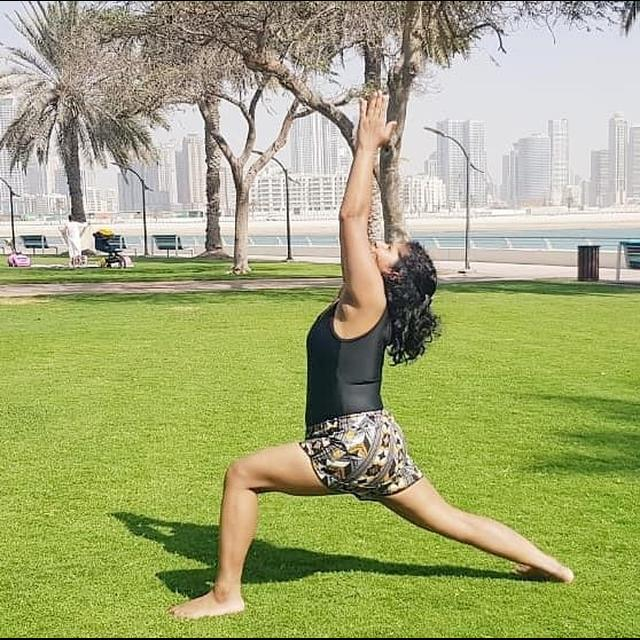Warrior_I: (156, 90, 578, 627)
